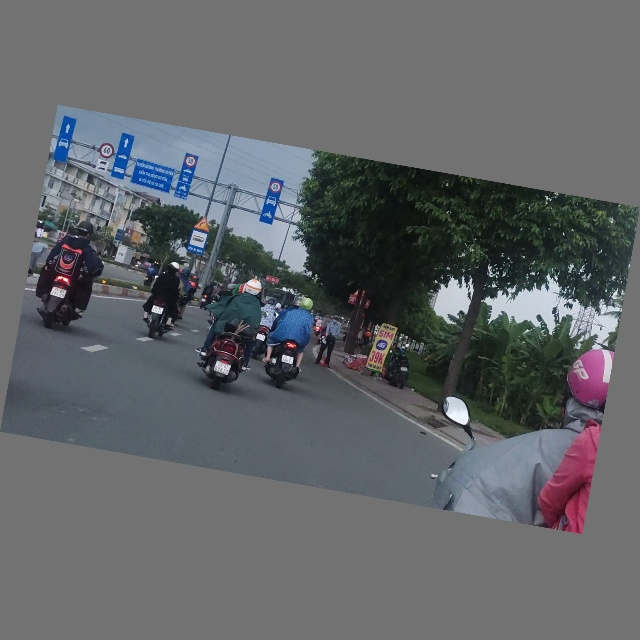I.434a: (186, 229, 209, 256)
P.127*50: (268, 181, 283, 195), (184, 155, 197, 169)
P.127*60: (98, 142, 116, 160)
S.505a*Xe tai va cong: (95, 159, 110, 174)
W.201b: (192, 216, 212, 233)
